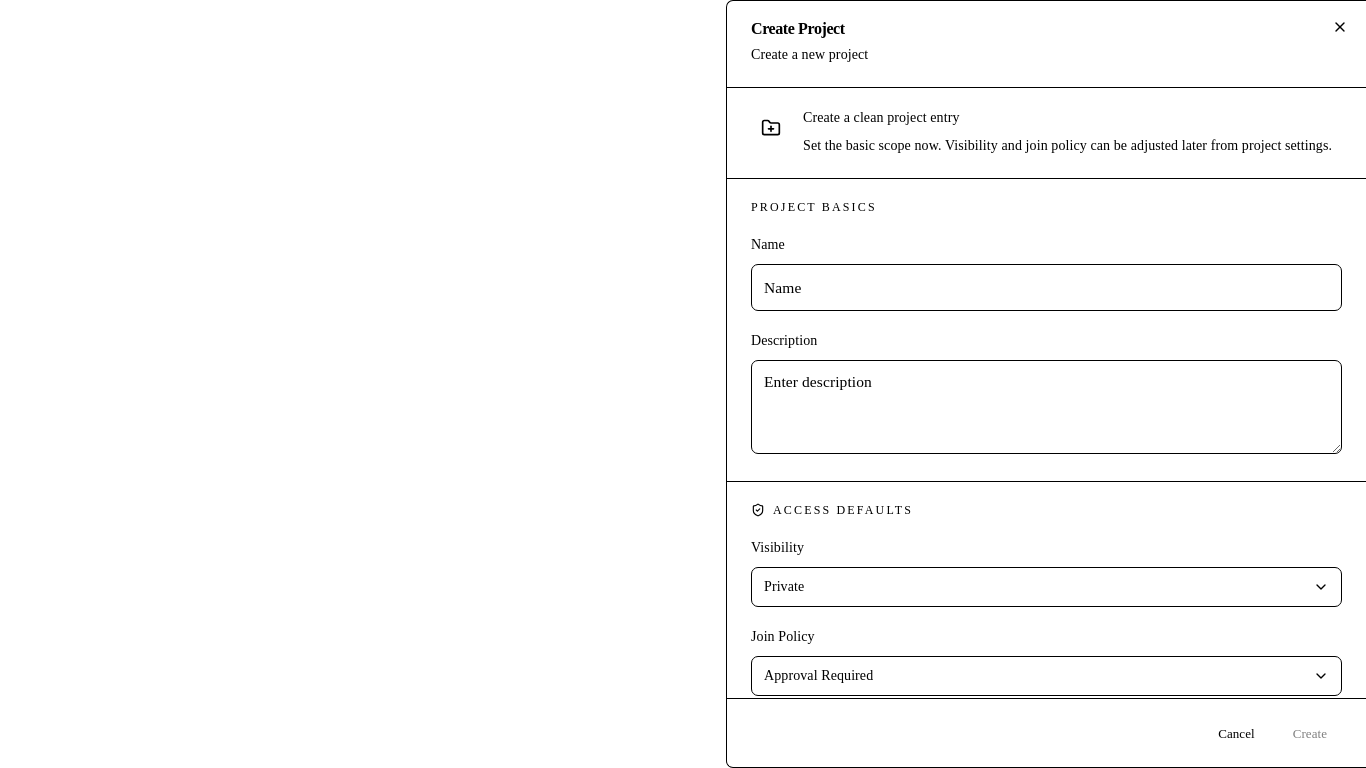
Test case: CreateProjectDialog › keeps create disabled until a project name is entered
Check: the button "Create" is disabled, box [1278,715,1342,751]
Step 1. Type "New Project" into the field labelled "Name" → [1046, 288], box [751,264,1342,311]
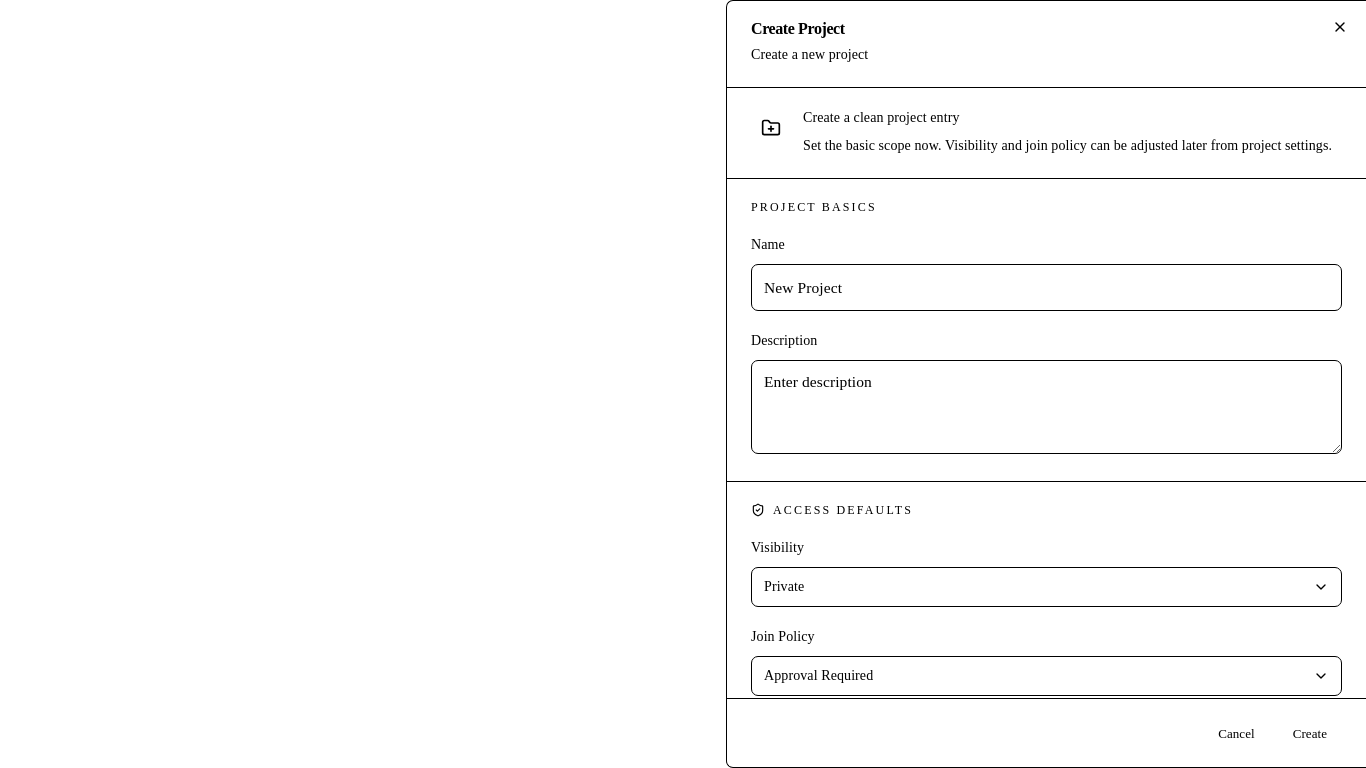
Check: the button "Create" is enabled, box [1278,715,1342,751]
